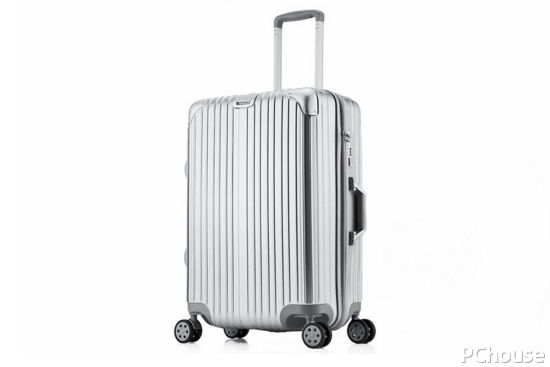luggage: (171, 11, 379, 350)
